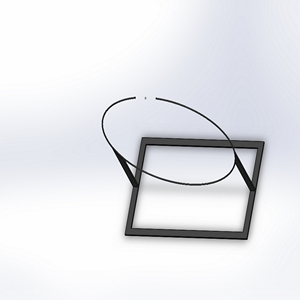circle: (100, 93, 267, 243)
